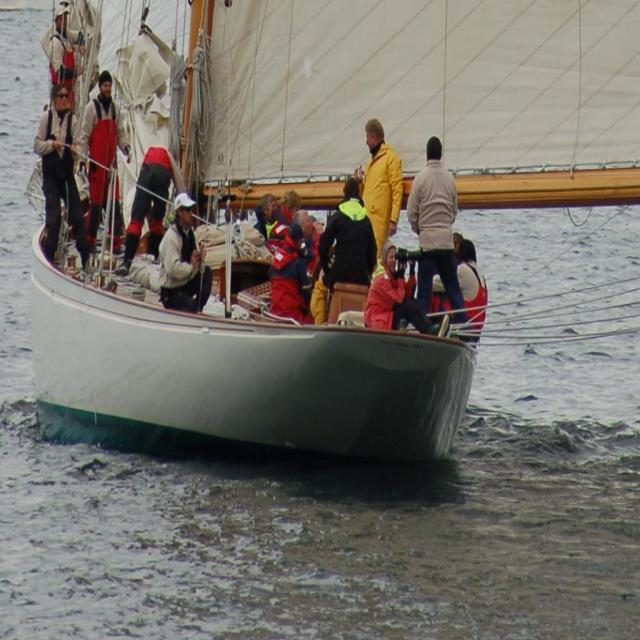Boat: (31, 0, 640, 475)
